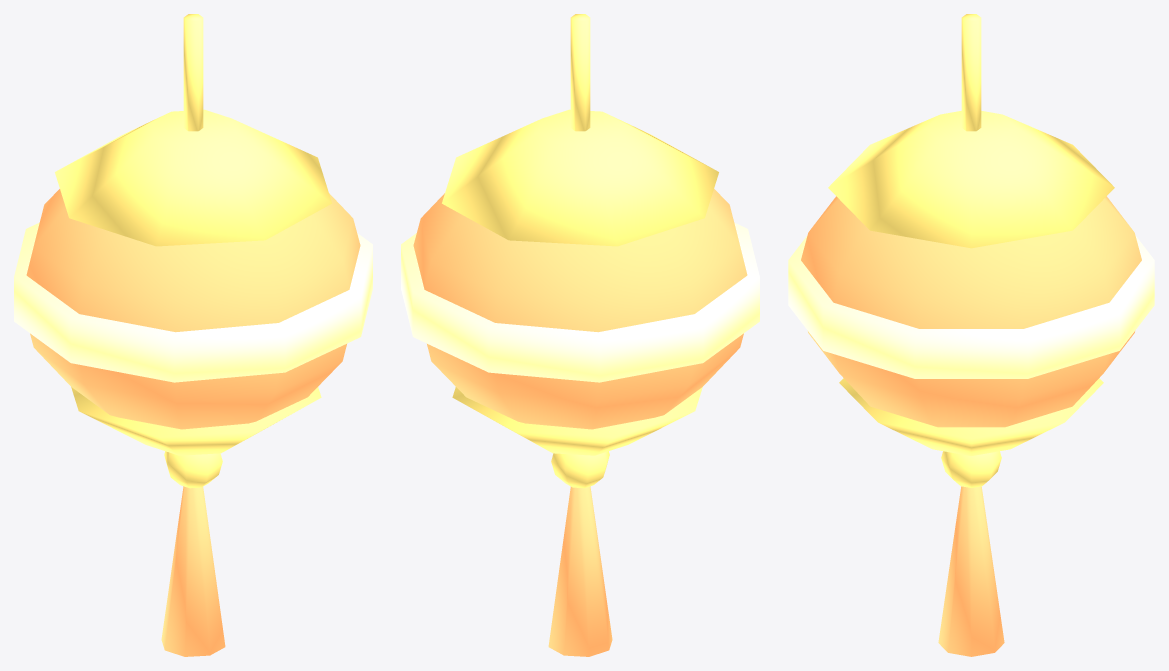
File: den_long_le_hoi.glb
The picture shows the model from 3 angles, left to right: view 1: azimuth 30°, elevation 25°; view 2: azimuth 150°, elevation 25°; view 3: azimuth 270°, elevation 25°; orthographic projection.
Parts seen in each view (by area): view 1: den_long_le_hoi; view 2: den_long_le_hoi; view 3: den_long_le_hoi.
Part boxes in pixels (x1,y1,x2,y2): den_long_le_hoi: (14,14,372,656); den_long_le_hoi: (401,14,759,656); den_long_le_hoi: (788,14,1154,656).
Bounding box in the file's own units: 0.6315 × 1.25 × 0.664.
